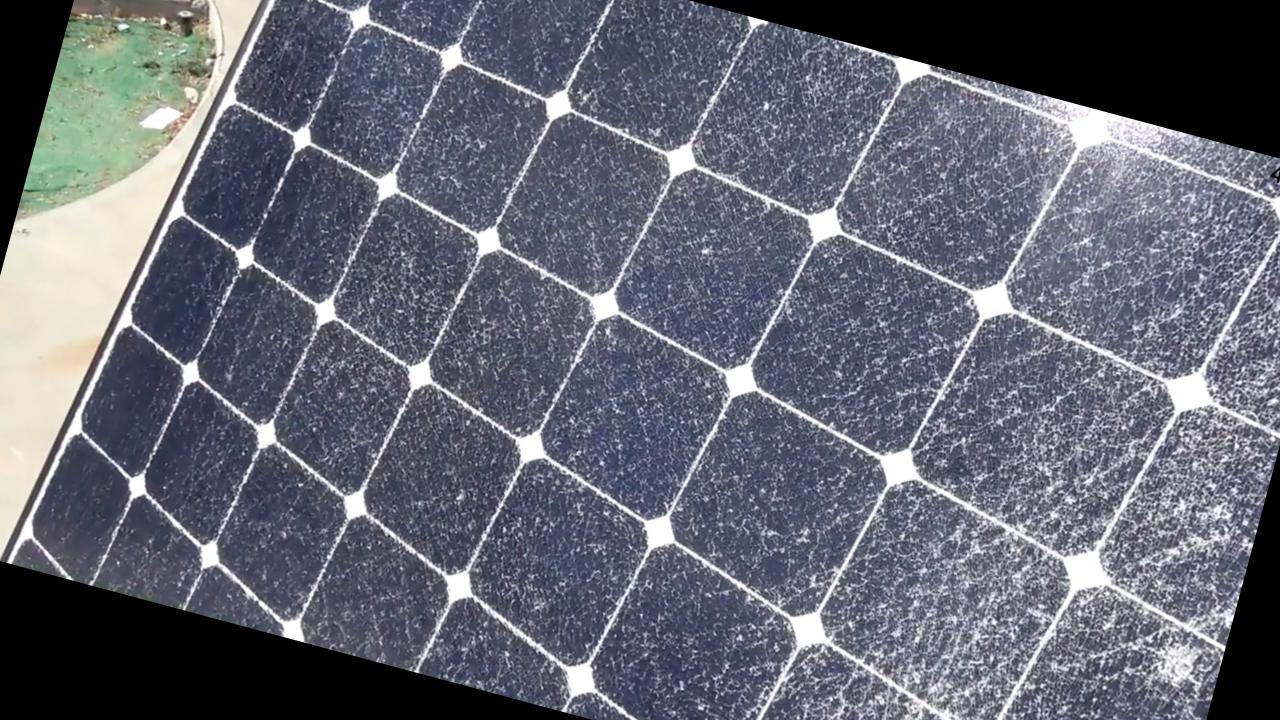Crack: (143, 0, 1279, 719)
